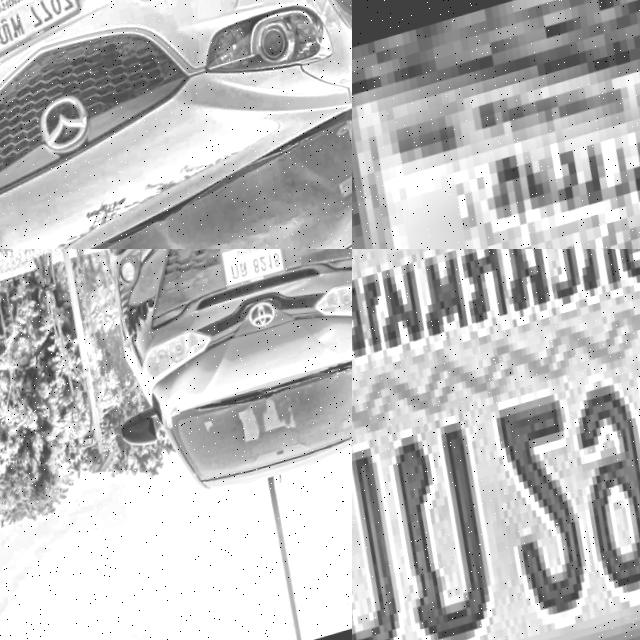license-plate: (352, 249, 640, 640), (352, 0, 640, 249), (0, 0, 95, 72), (215, 249, 295, 301)
